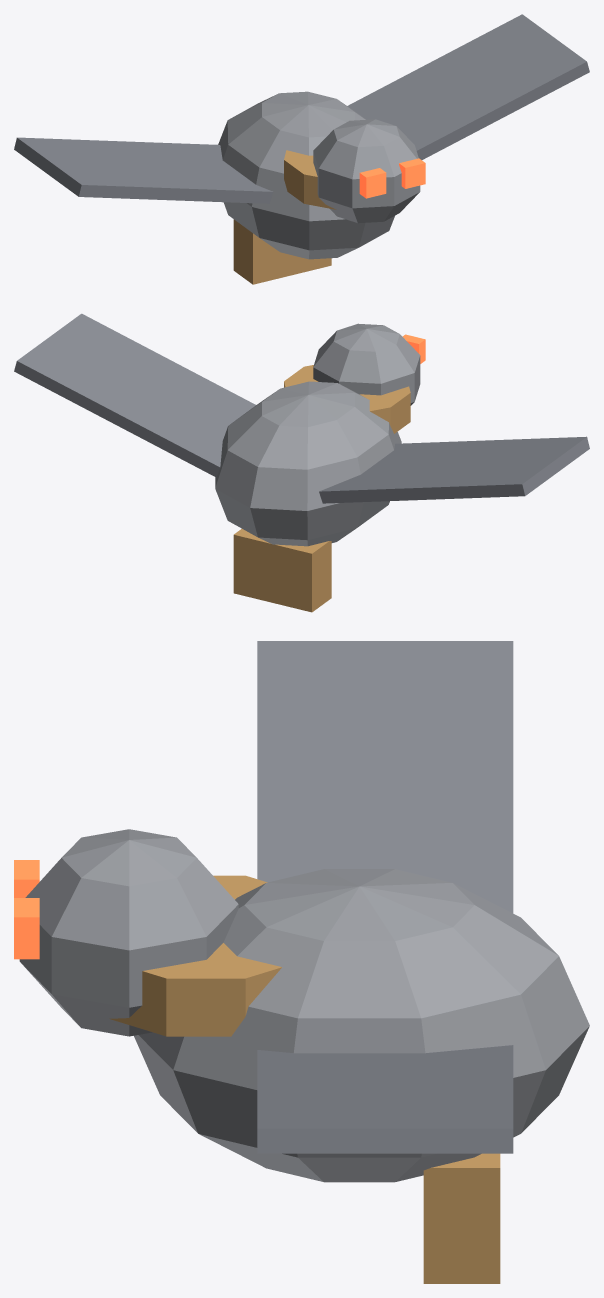
The model's file is gargoyle.glb.
The picture shows the model from 3 angles, top to bottom: view 1: azimuth 30°, elevation 25°; view 2: azimuth 150°, elevation 25°; view 3: azimuth 270°, elevation 25°; orthographic projection. The views are drawn at different scales.
Parts seen in each view (by area): view 1: BodyMesh, BodyGlow; view 2: BodyMesh; view 3: BodyMesh, BodyGlow.
Part boxes in pixels (bbox=[...]): BodyMesh: bbox=[14, 14, 589, 284]; BodyGlow: bbox=[359, 158, 425, 198]; BodyMesh: bbox=[14, 313, 589, 612]; BodyMesh: bbox=[19, 641, 589, 1283]; BodyGlow: bbox=[14, 860, 39, 959].
Size of the model in its own units: 0.9115 by 0.35 by 0.45.
